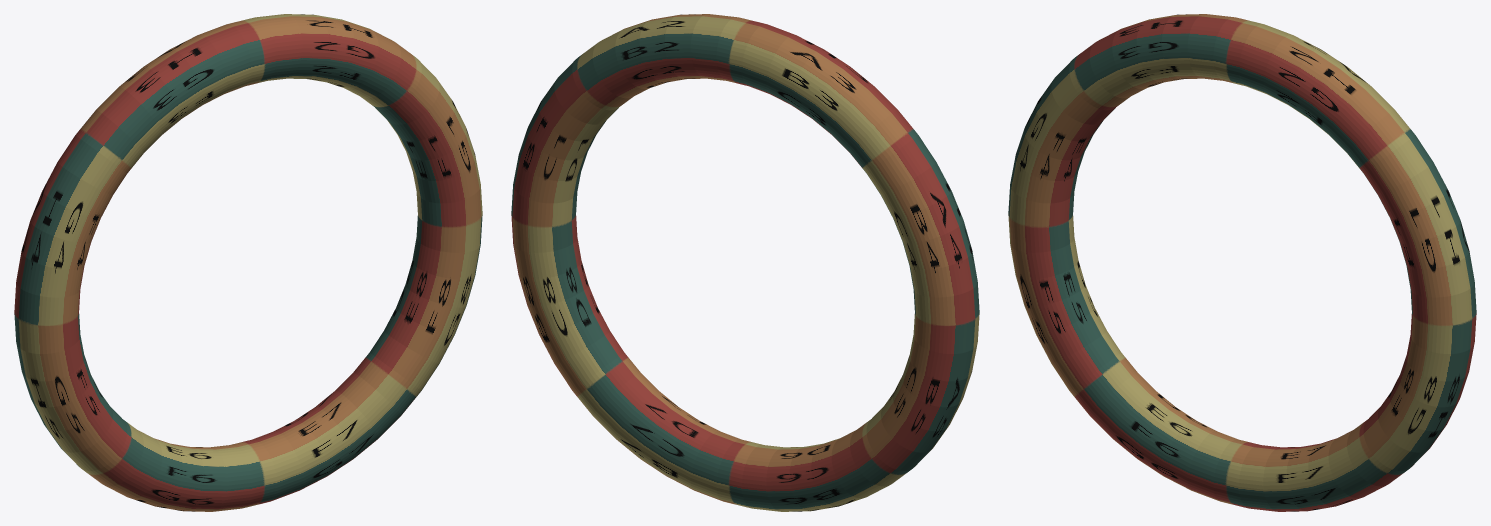
The model's file is texture_torus_R21_r5.glb.
3 views of the same model, side by side, from view 1: azimuth 30°, elevation 25°; view 2: azimuth 150°, elevation 25°; view 3: azimuth 330°, elevation 25° (orthographic).
Parts seen in each view (by area): view 1: world; view 2: world; view 3: world.
Part boxes in pixels (left/top/right/bottom): world: left=14, top=14, right=482, bottom=511; world: left=511, top=14, right=979, bottom=511; world: left=1008, top=14, right=1476, bottom=511.
Bounding box in the file's own units: 27.33 × 27.28 × 3.33.
1 material, 1 textured.
